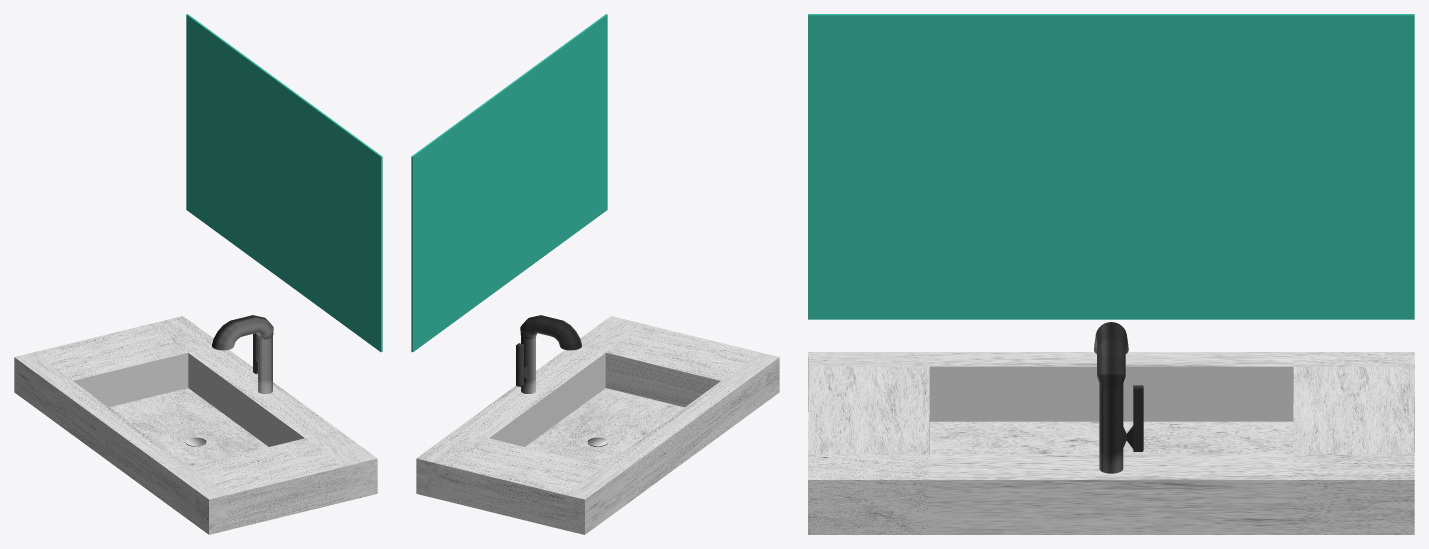
The model's file is pia.obj.
3 views of the same model, side by side, from view 1: azimuth 30°, elevation 25°; view 2: azimuth 150°, elevation 25°; view 3: azimuth 270°, elevation 25° (orthographic). The views are drawn at different scales.
Parts seen in each view (by area): view 1: pia; view 2: pia; view 3: pia.
Boxes of the visible parts, box(x1,y1,x2,y2) form: pia: box(14, 14, 382, 534); pia: box(411, 14, 779, 534); pia: box(808, 14, 1414, 534).
Size of the model in its own units: 5.14 by 9.52 by 10.01.
